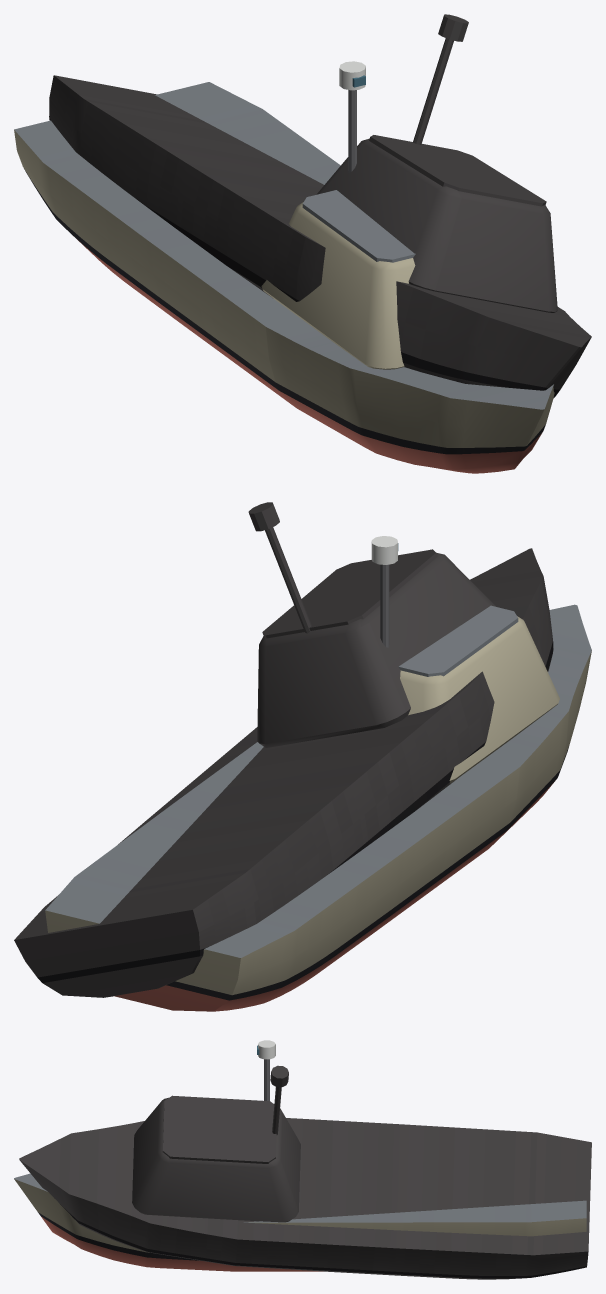
The model's file is seaDrone__arcims_sweep.glb.
3 renders of one model, top to bottom at view 1: azimuth 30°, elevation 25°; view 2: azimuth 150°, elevation 25°; view 3: azimuth 270°, elevation 25°, orthographic. The views are drawn at different scales.
Visible parts, largest first — view 1: Wreck, Hull_Mesh, Radar_Mesh; view 2: Wreck, Hull_Mesh, Radar_Mesh; view 3: Wreck, Hull_Mesh, Radar_Mesh.
Part boxes in pixels (x1,y1,x2,y2): Wreck: (49,14,591,398); Hull_Mesh: (14,82,554,473); Radar_Mesh: (339,61,365,90); Wreck: (14,502,553,997); Hull_Mesh: (45,564,591,1011); Radar_Mesh: (371,536,398,564); Wreck: (19,1065,591,1279); Hull_Mesh: (14,1059,586,1271); Radar_Mesh: (257,1040,275,1059).
Size of what is drawn, in the model's own units: 3.84 by 4.91 by 11.57.
